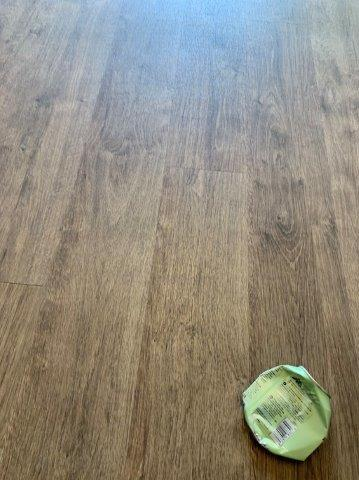kaleng: (243, 365, 331, 460)
